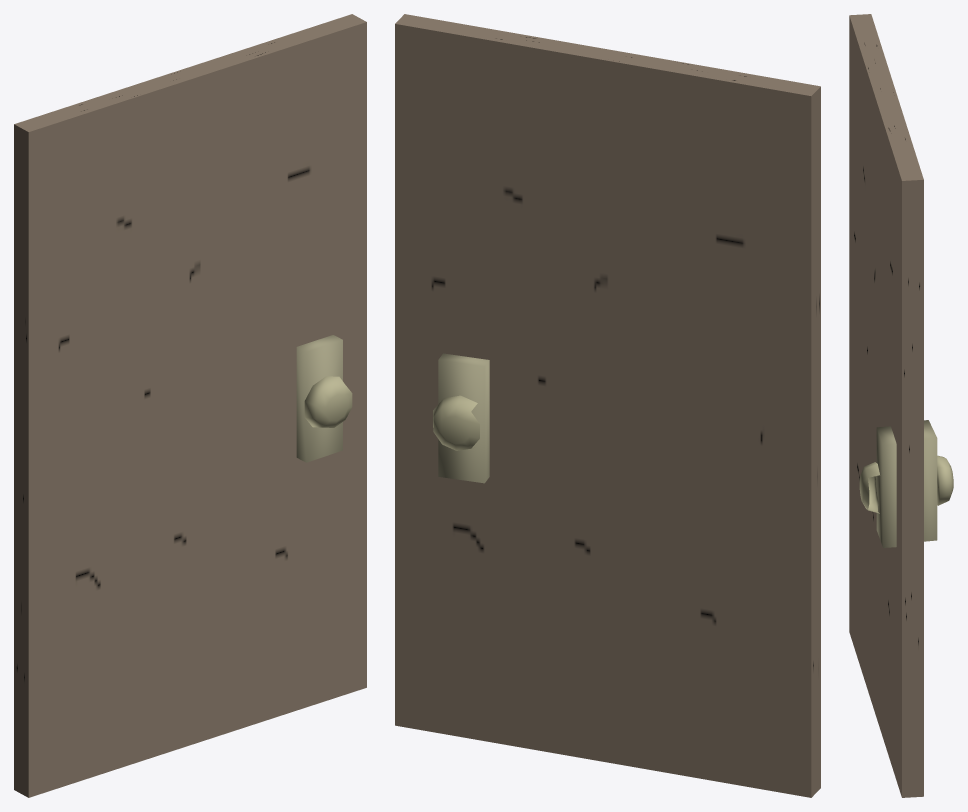
File: housedoor.obj
3 views of the same model, side by side, from view 1: azimuth 30°, elevation 25°; view 2: azimuth 150°, elevation 25°; view 3: azimuth 270°, elevation 25° (orthographic). The views are drawn at different scales.
Visible parts, largest first — view 1: HouseDoor_Cube.005; view 2: HouseDoor_Cube.005; view 3: HouseDoor_Cube.005.
Boxes of the visible parts, x1,y1,x2,y2 form: HouseDoor_Cube.005: (14,14,366,797); HouseDoor_Cube.005: (395,14,820,797); HouseDoor_Cube.005: (849,14,953,797).
Bounding box in the file's own units: 1.46 × 2.52 × 0.3855.
Materials: 1 (1 with a texture image).
